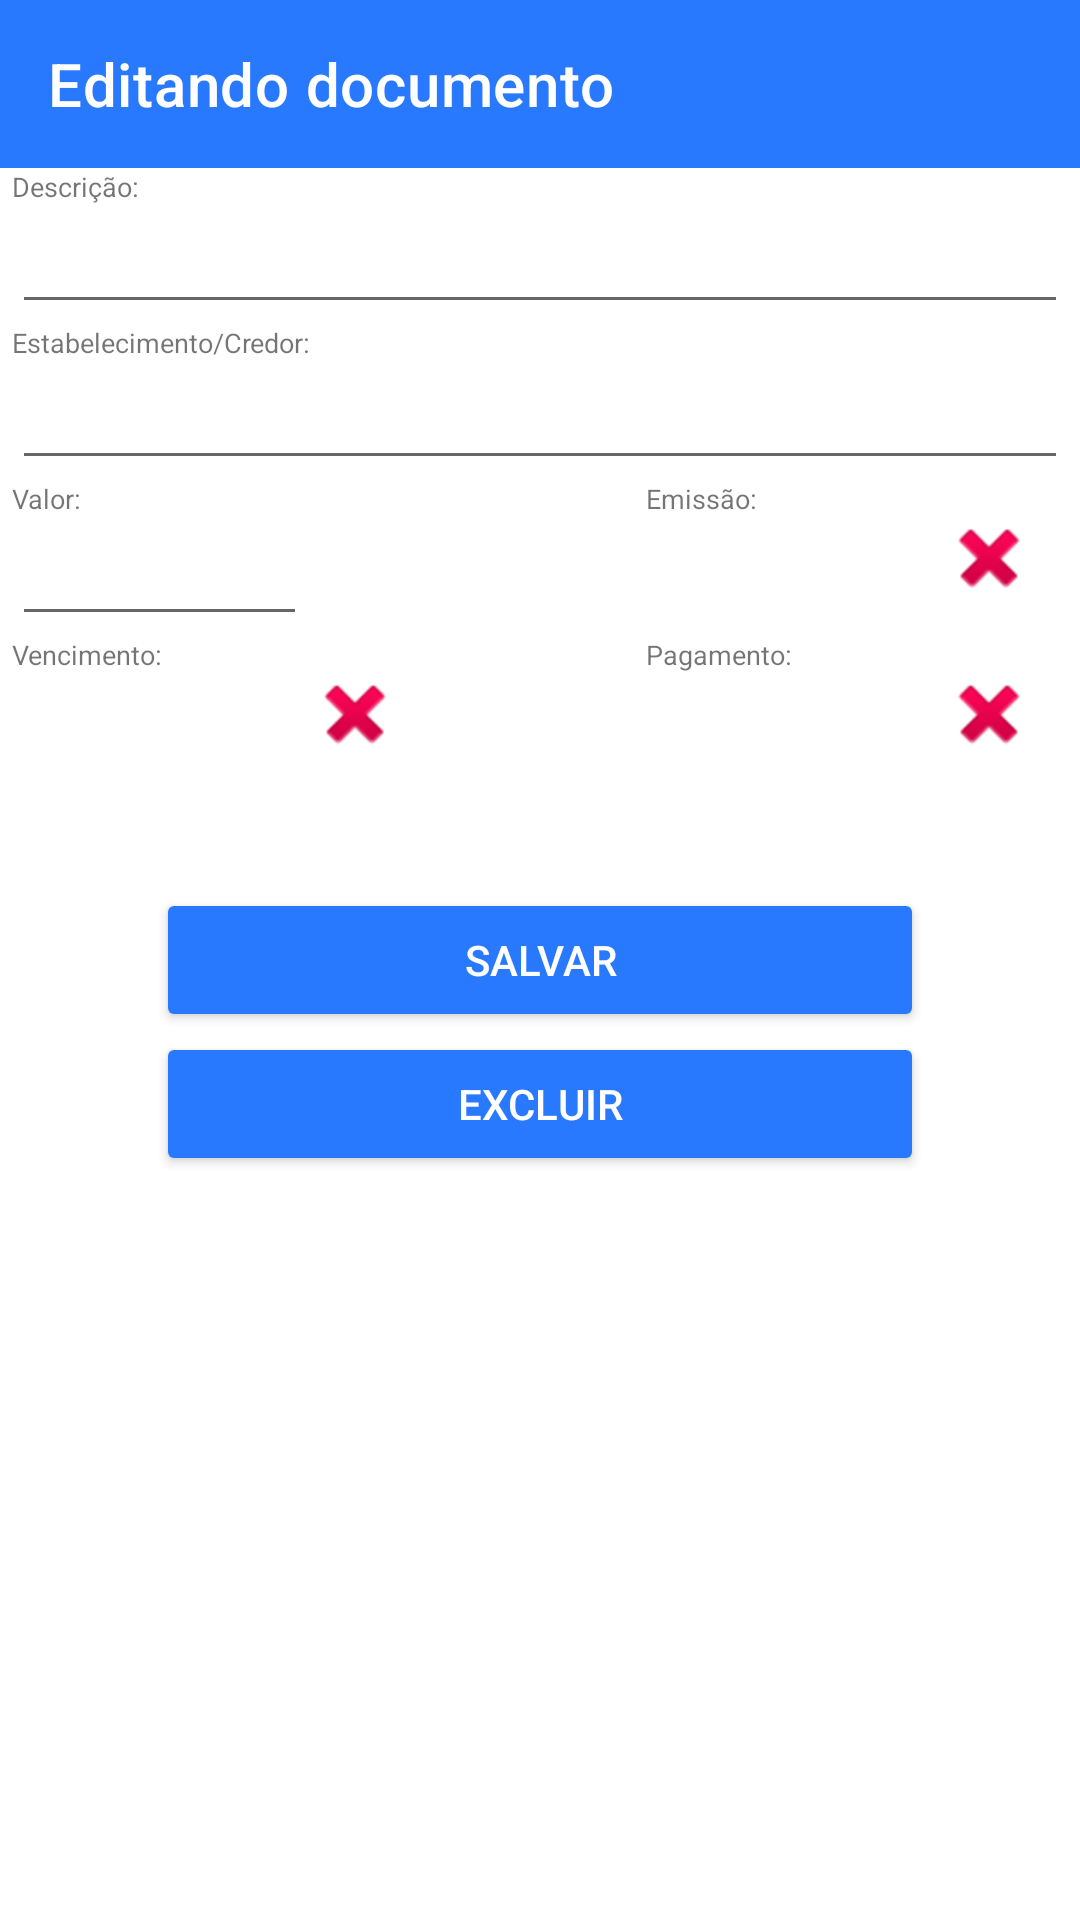

Point at icon controls on the screen. Image size 1080*1920, points as (x=x, y=y).
delete: (x=989, y=558), (x=355, y=714), (x=989, y=714)
